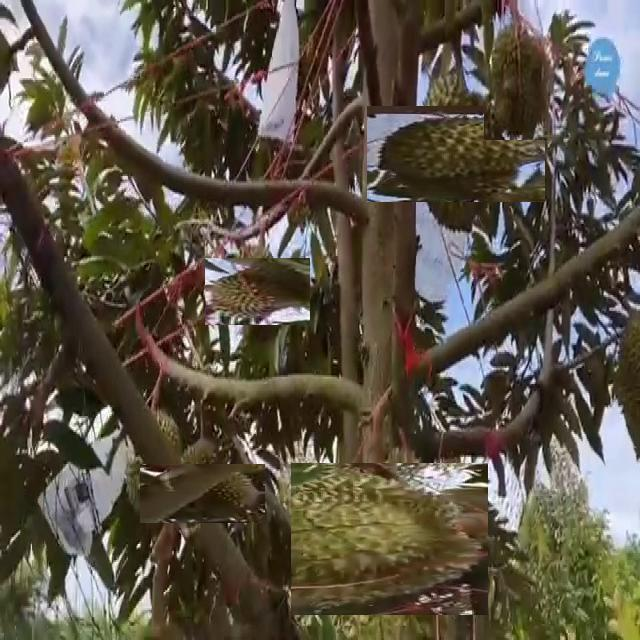durian: (301, 452, 477, 626), (387, 86, 525, 223), (484, 21, 556, 140), (156, 448, 249, 540), (215, 248, 302, 335), (121, 401, 184, 515)
